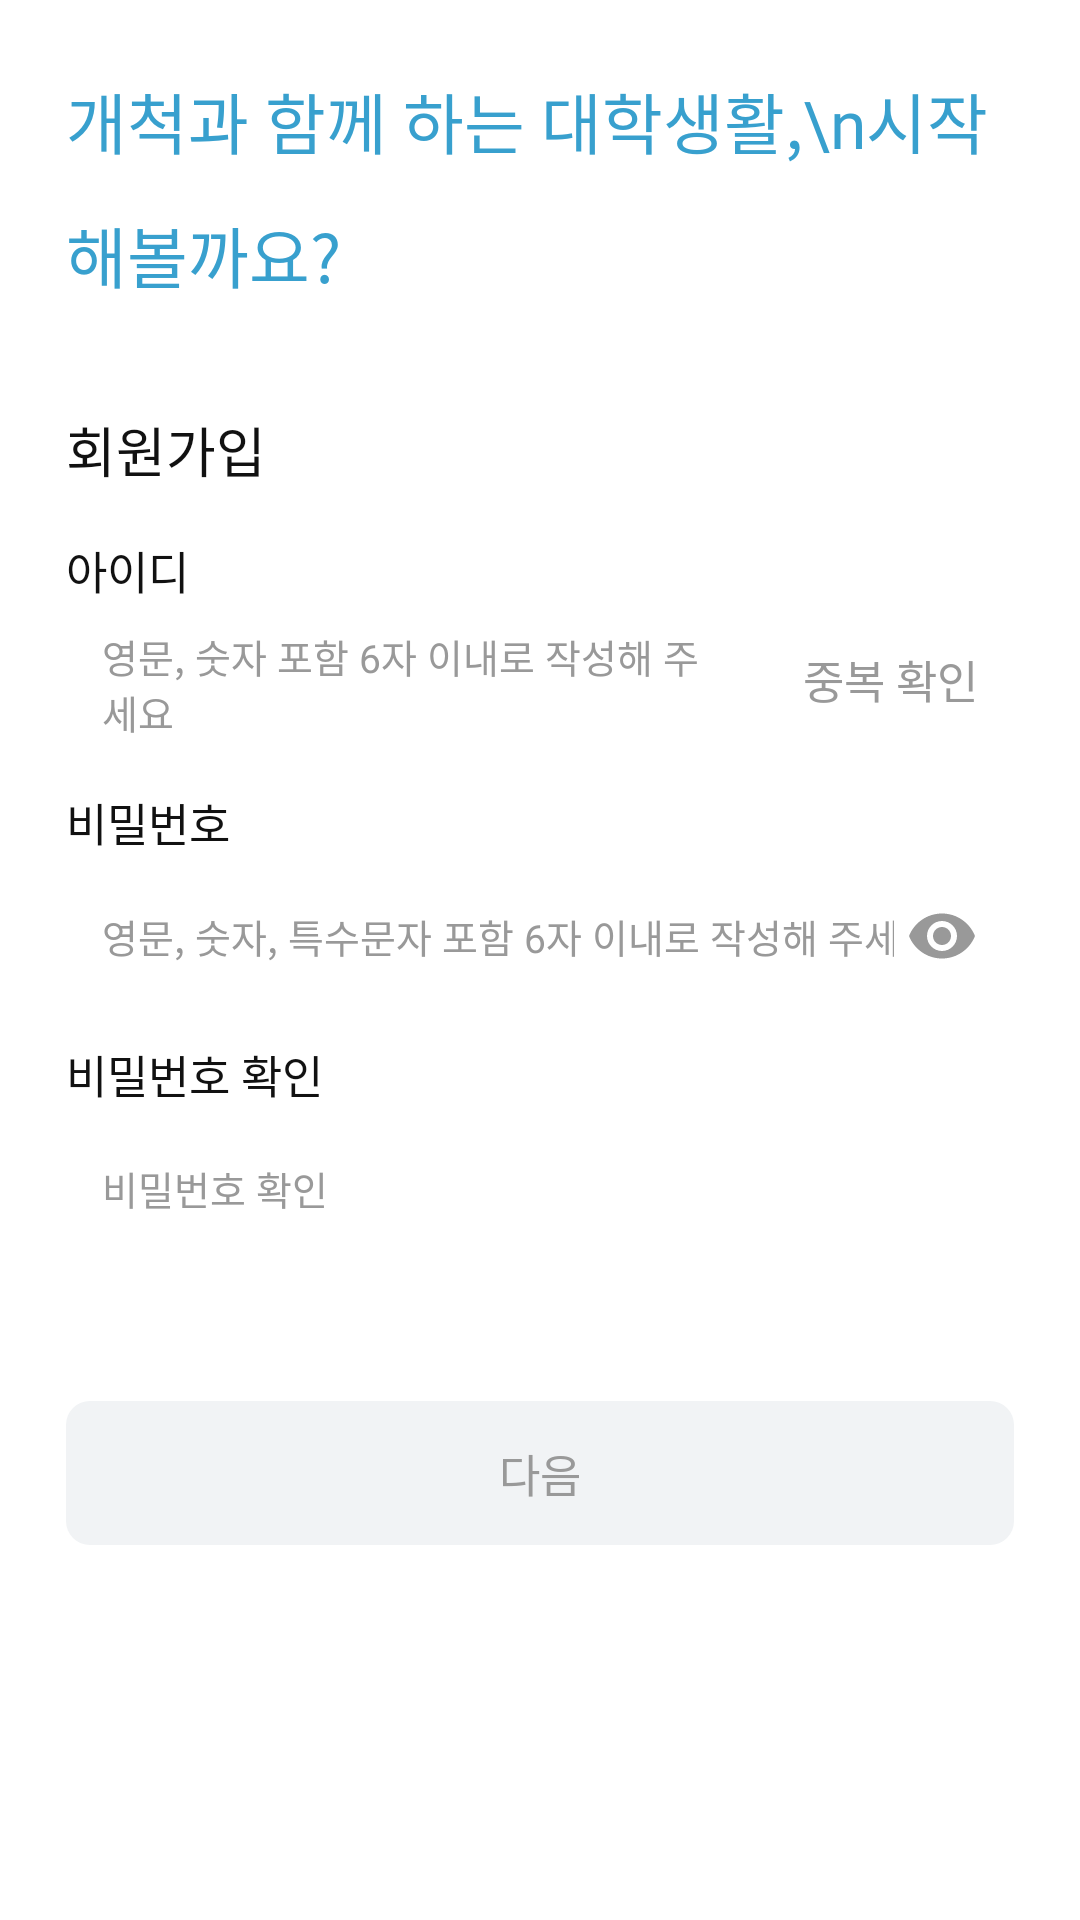

Icon bounding boxes for this 1080px×1920px phone screenshot, format bbox=[x1, y1, x2, y2]:
eye: bbox=[909, 913, 975, 959]
